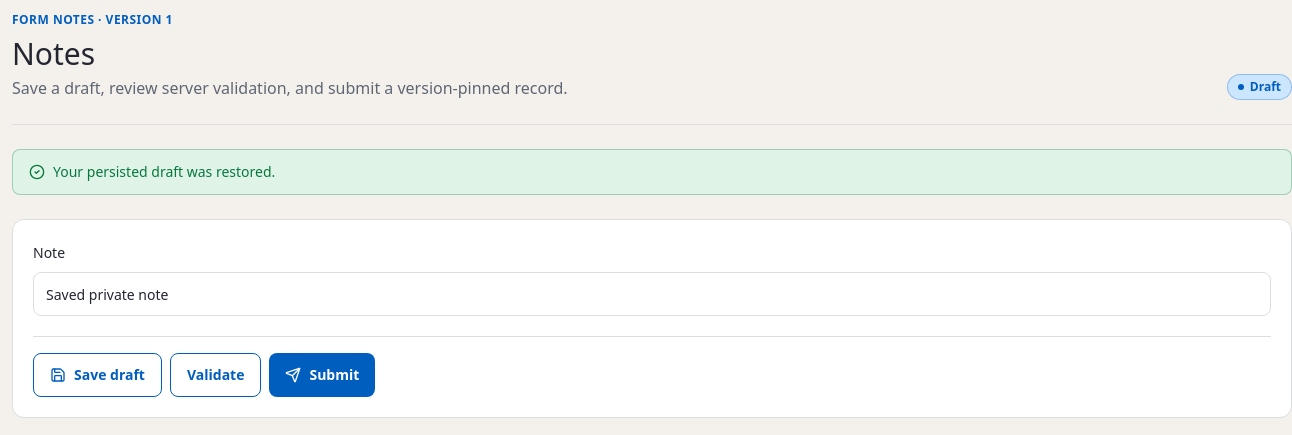
Test: direct entry scoped retry and continuation ownership › ignores an edit made while a save is running
The image size is (1292, 435).
Click the button "Save draft": (98, 375) [33,353,162,397]
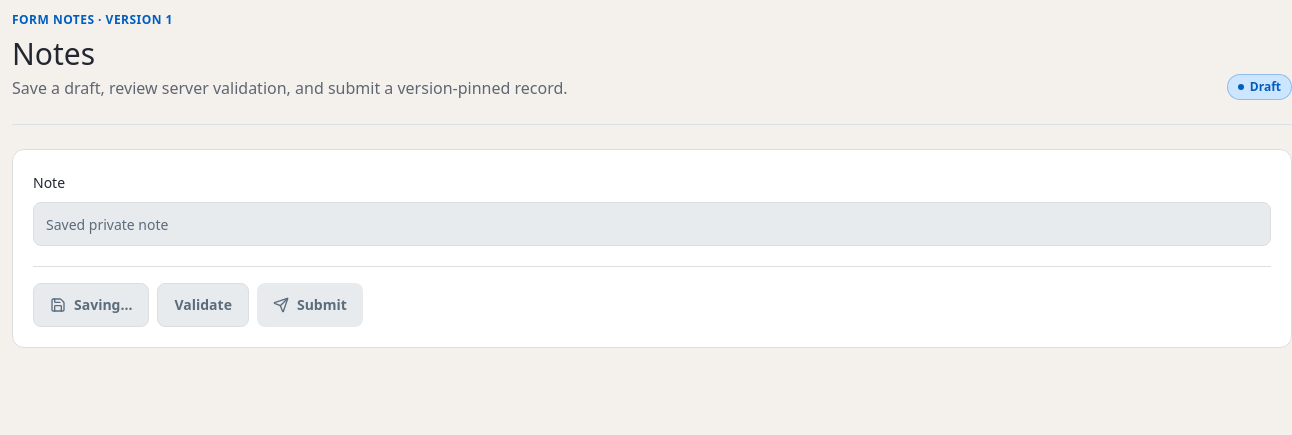
Expected: the button "Saving..." is shown, [33,283,149,327]
Replace the text in the field labelled "Note" with "Typed during the save": (652, 224) [33,202,1271,246]
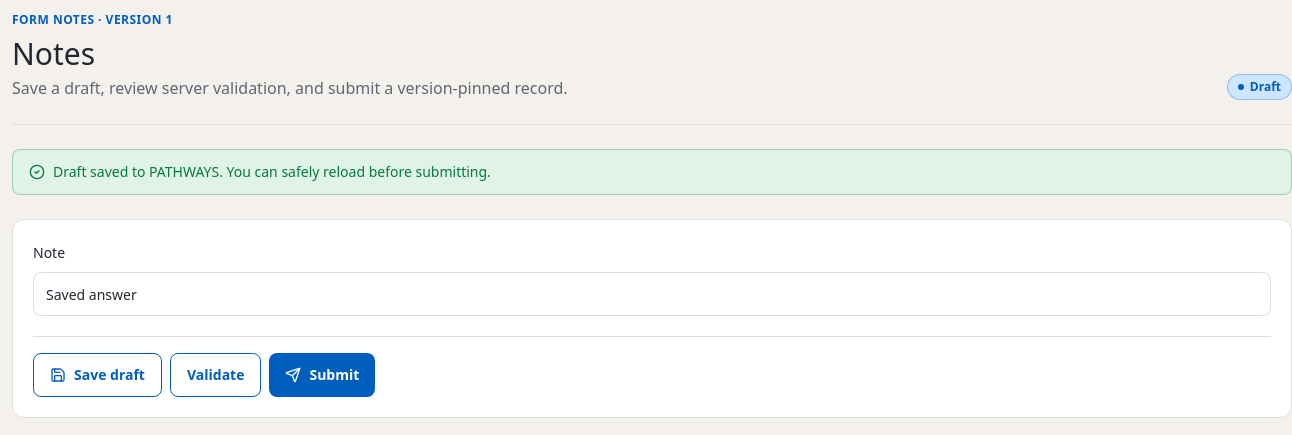
Expected: the text "Draft saved to PATHWAYS" is shown, [53,162,491,181]
Expected: the field showing "Saved answer" is shown, [33,272,1271,316]
